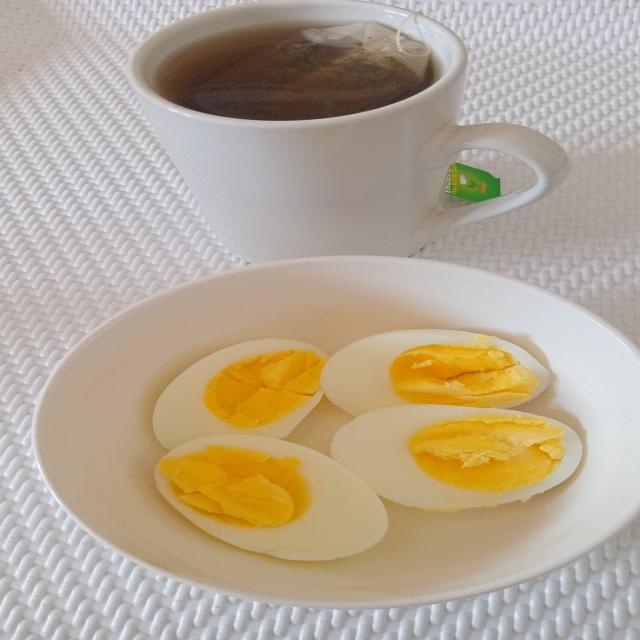egg boiled: (155, 435, 387, 560), (332, 405, 582, 510), (321, 330, 550, 415), (154, 339, 326, 449)
